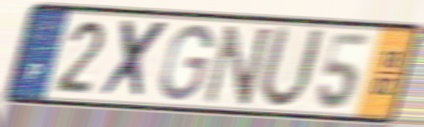2: (54, 18, 109, 95)
5: (314, 30, 371, 113)
G: (156, 22, 216, 104)
N: (201, 23, 276, 107)
U: (254, 23, 328, 113)
X: (96, 17, 172, 103)
